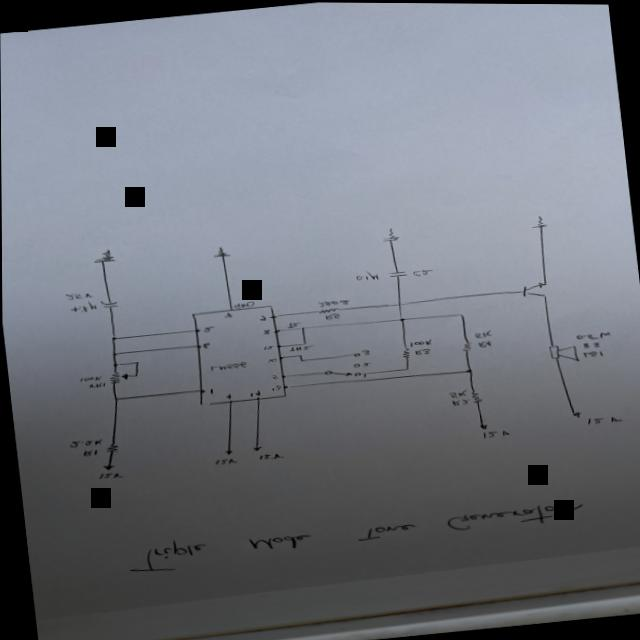capacitor: (96, 298, 118, 309), (383, 268, 406, 278)
crossover: (394, 300, 402, 305)
ground: (89, 247, 116, 264), (378, 225, 399, 241), (527, 213, 547, 228), (209, 243, 230, 257)
junction: (110, 362, 119, 367), (109, 351, 118, 356), (107, 335, 116, 340), (462, 367, 471, 372), (396, 316, 404, 321), (455, 311, 463, 316), (131, 372, 138, 377), (131, 360, 139, 364), (110, 396, 116, 401), (295, 352, 301, 356), (401, 366, 407, 370), (298, 357, 303, 361), (298, 325, 303, 328), (300, 341, 304, 343)
resistor: (105, 369, 127, 383), (468, 387, 481, 402), (314, 306, 338, 313), (102, 441, 117, 452), (398, 345, 410, 357), (458, 339, 471, 350)
source: (99, 463, 114, 470), (567, 409, 580, 417), (248, 445, 261, 451), (476, 422, 487, 429), (220, 448, 231, 455)
switch: (321, 361, 359, 379)
terminal: (350, 351, 358, 357)
text: (121, 492, 587, 578), (66, 435, 104, 449), (573, 328, 610, 341), (584, 412, 621, 425), (66, 298, 96, 314), (207, 359, 246, 371), (314, 297, 350, 308), (352, 267, 379, 281), (62, 289, 93, 301), (254, 450, 284, 461), (479, 427, 509, 438), (405, 336, 431, 347), (94, 470, 121, 480), (285, 342, 314, 351), (409, 266, 433, 276), (211, 456, 237, 465), (76, 373, 102, 382), (470, 328, 493, 338), (579, 348, 604, 357), (445, 387, 467, 397), (577, 339, 601, 348), (79, 446, 98, 457), (231, 299, 254, 307), (474, 337, 492, 347), (448, 397, 470, 405), (411, 346, 430, 355), (321, 311, 340, 320), (85, 380, 105, 388), (282, 319, 301, 327), (245, 387, 260, 397), (199, 324, 213, 331), (219, 310, 232, 317), (263, 356, 276, 363), (267, 383, 280, 390), (260, 344, 273, 350), (199, 341, 210, 348), (358, 348, 369, 355), (257, 313, 266, 321), (267, 372, 277, 379), (205, 386, 215, 393), (259, 327, 268, 334), (222, 392, 231, 399), (359, 360, 369, 366), (359, 371, 365, 377)
transistor: (518, 279, 548, 299)
